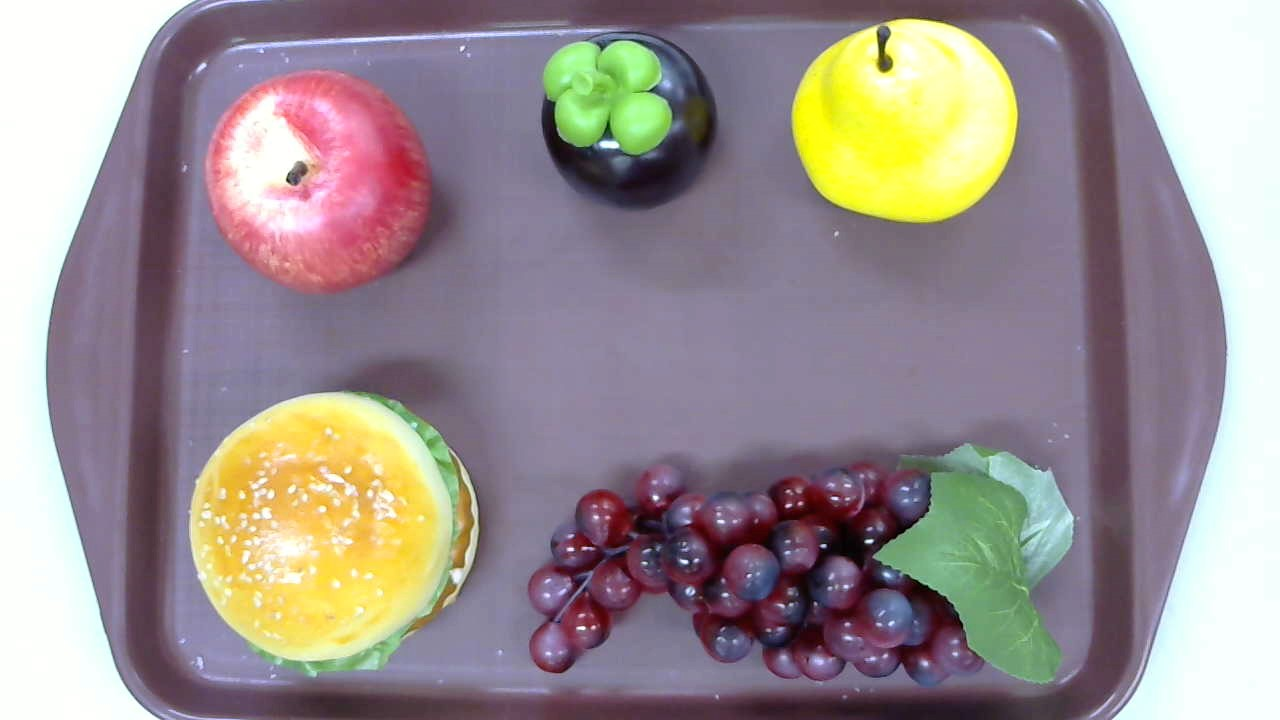grape: (528, 441, 1073, 685)
hamburger: (187, 389, 479, 685)
mangosteen: (540, 31, 716, 211)
red apple: (204, 69, 432, 298)
yellow pear: (791, 17, 1018, 223)
